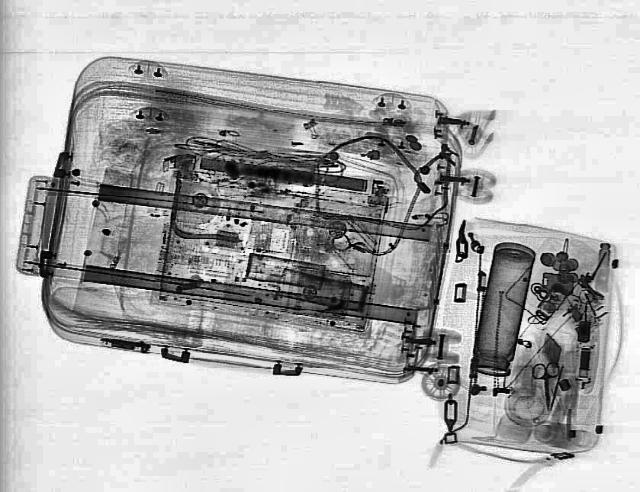Scissors: (529, 360, 563, 410)
